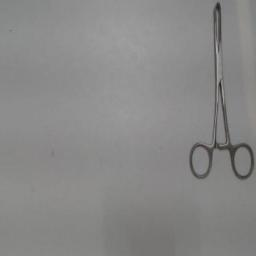Allis Tissue Forceps: (186, 1, 256, 185)
